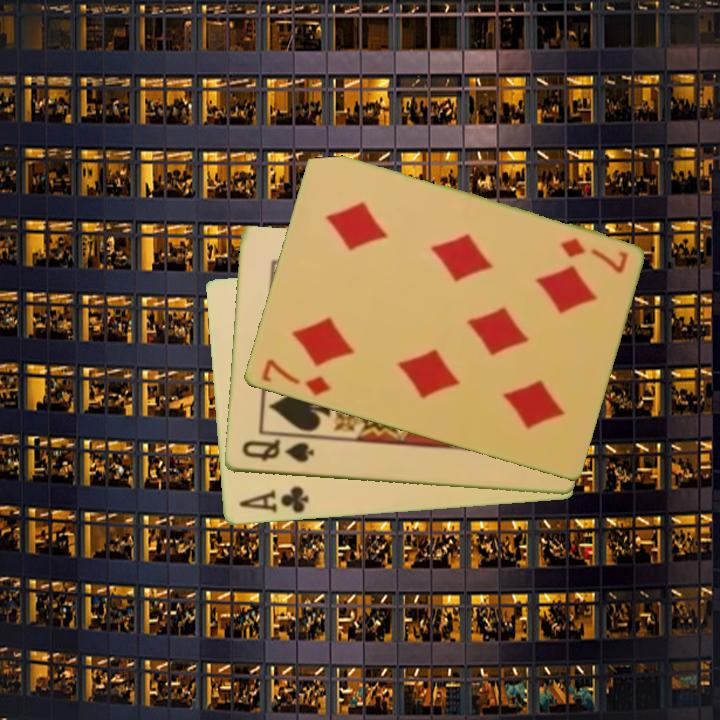7d: (258, 355, 333, 399), (557, 235, 631, 277)
Ac: (234, 483, 311, 517)
Qs: (238, 437, 317, 466)
